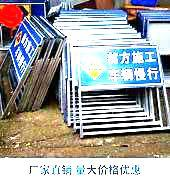sign: (80, 46, 163, 83), (11, 30, 34, 71)
